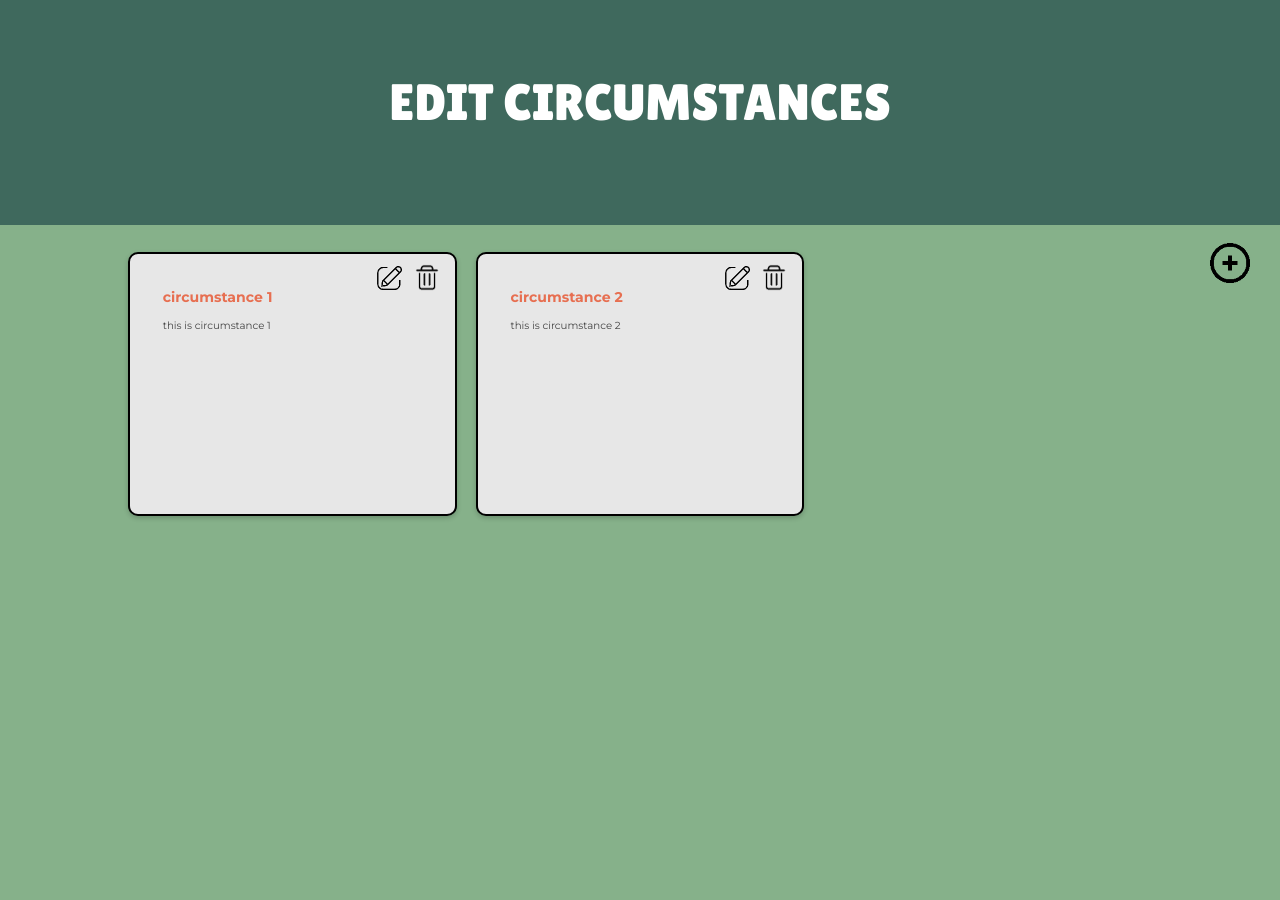
it: adding a new circumstance saves correctly
Check: the heading "circumstance 1" is shown, box [163,288,272,306]
Click the picture titled "Add new circumstance" at (1230, 263), box [1210,243,1250,283]
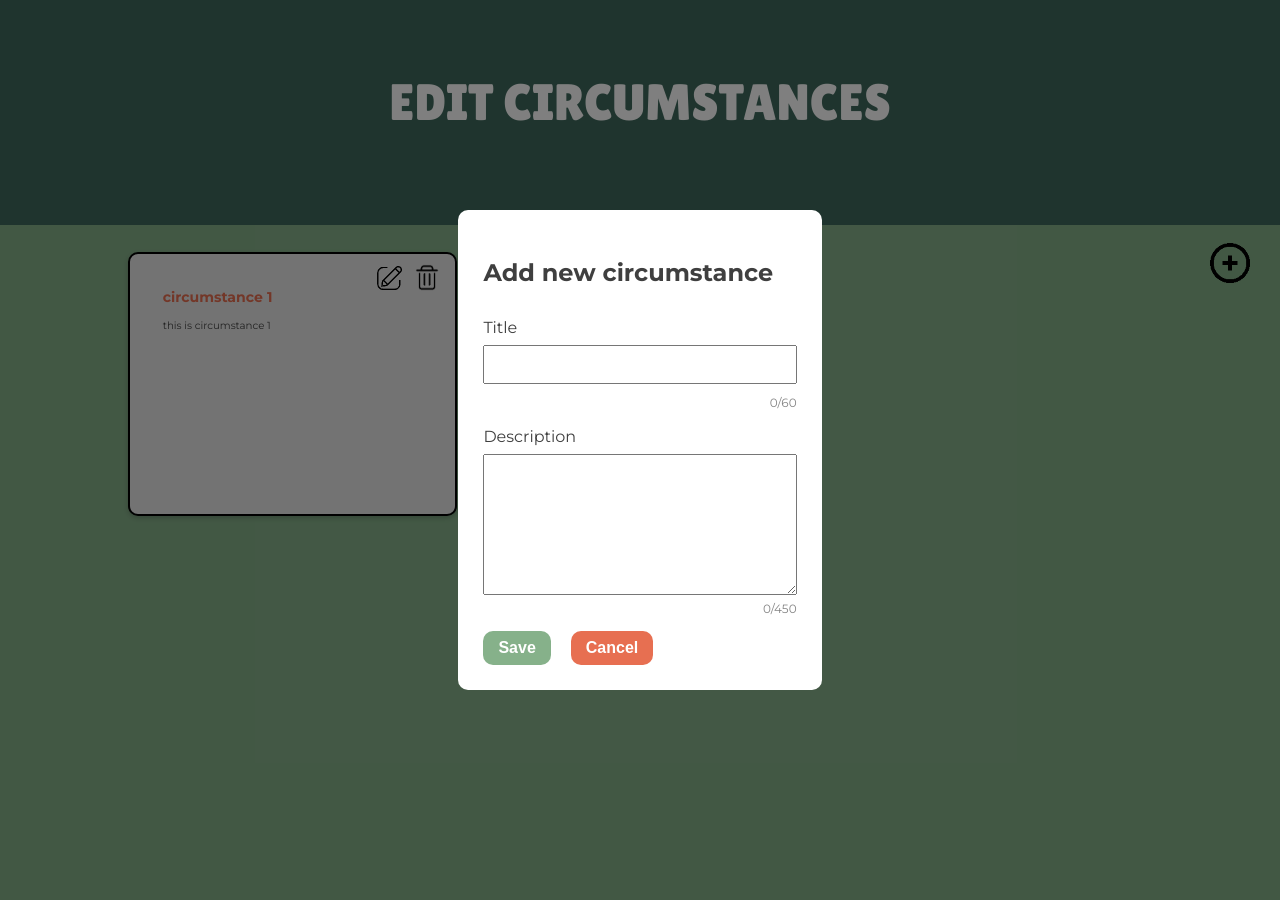
Type "new circumstance" into the field labelled "Title" at (640, 364), box [483,345,797,384]
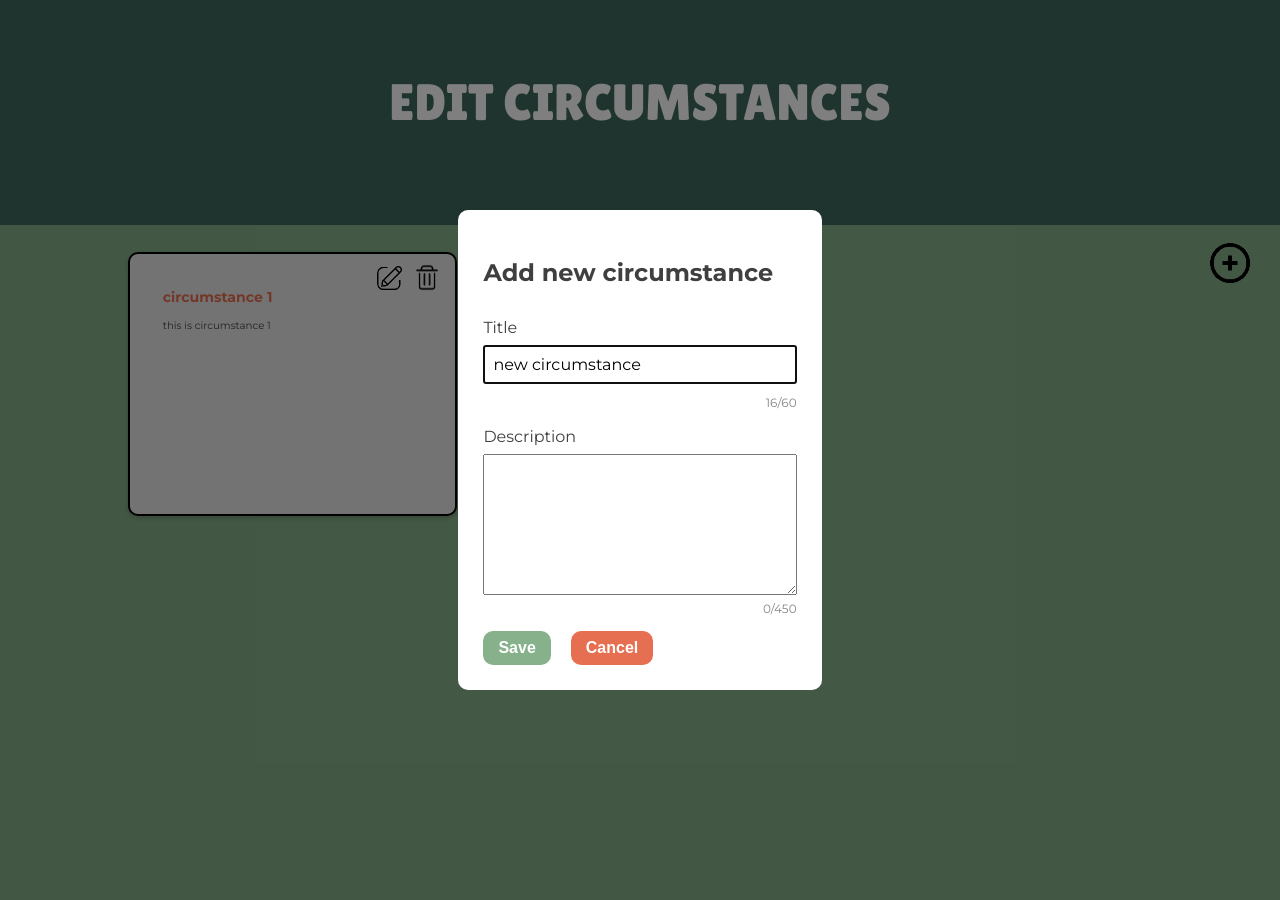
Type "here is new description for new circumstance" into the text box labelled "Description" at (640, 524), box [483,454,797,595]
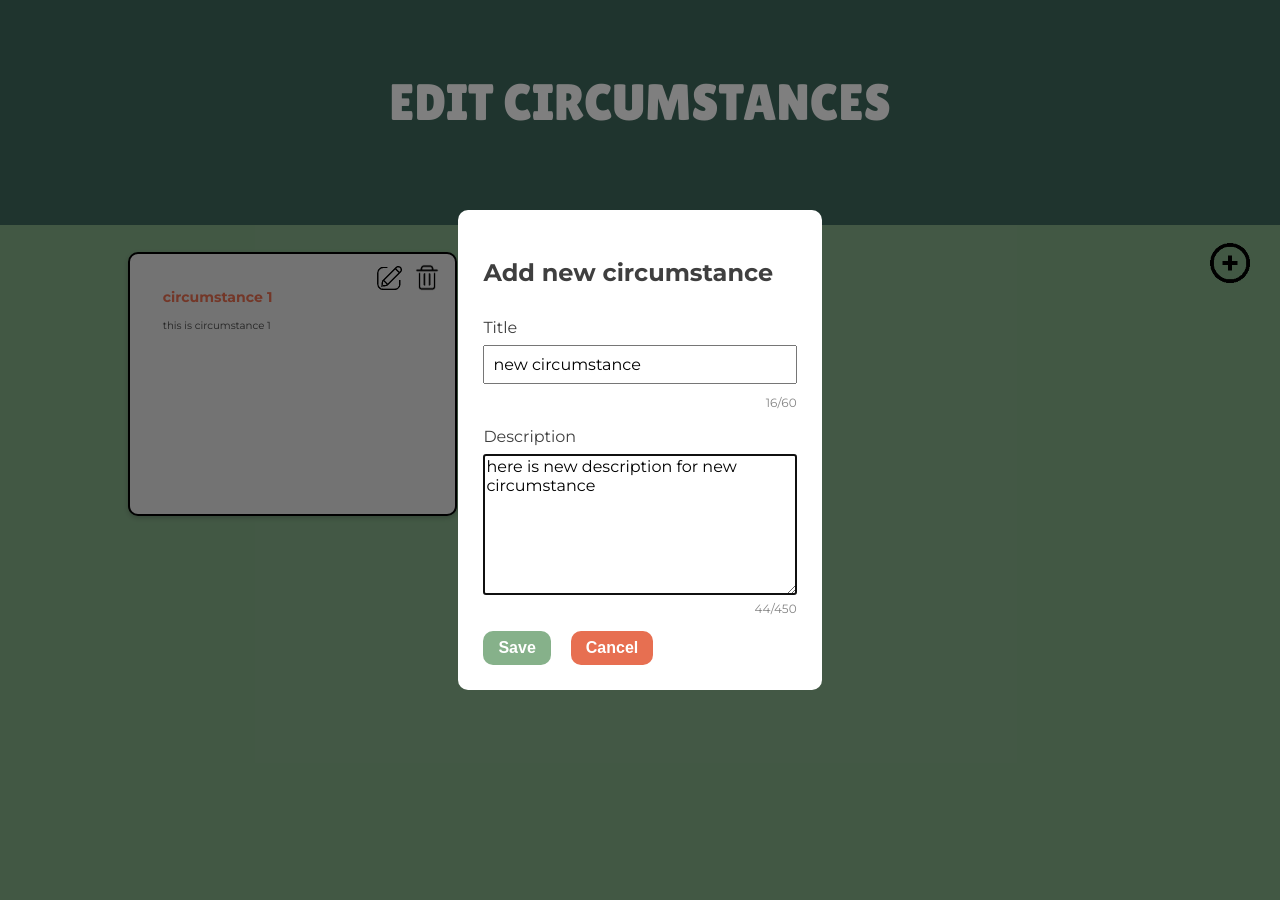
Click the button "Save" at (517, 648), box [483,631,551,665]
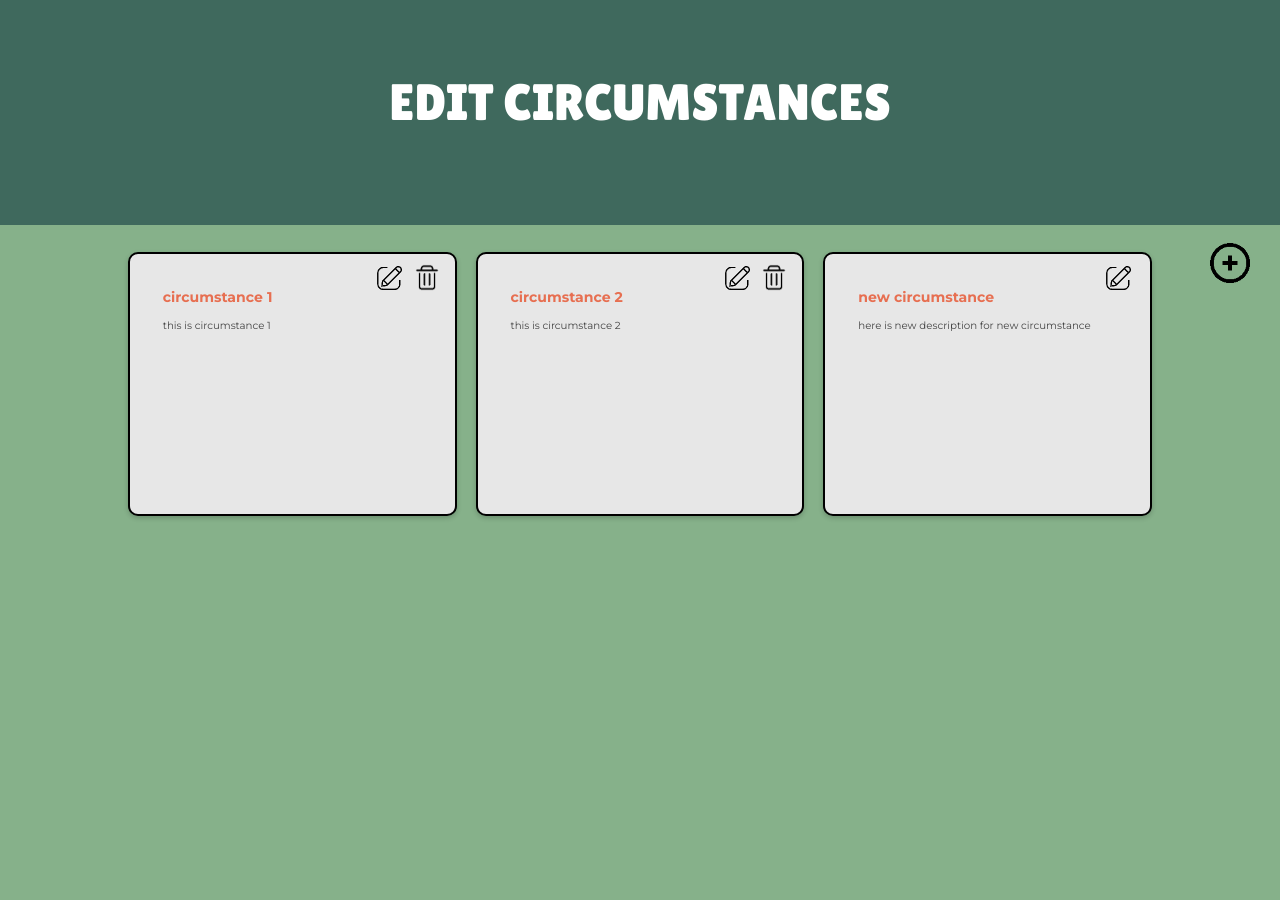
Check: the heading "new circumstance" is shown, box [858,288,994,306]
Check: the text "here is new description for new circumstance" is shown, box [858,318,1117,333]
